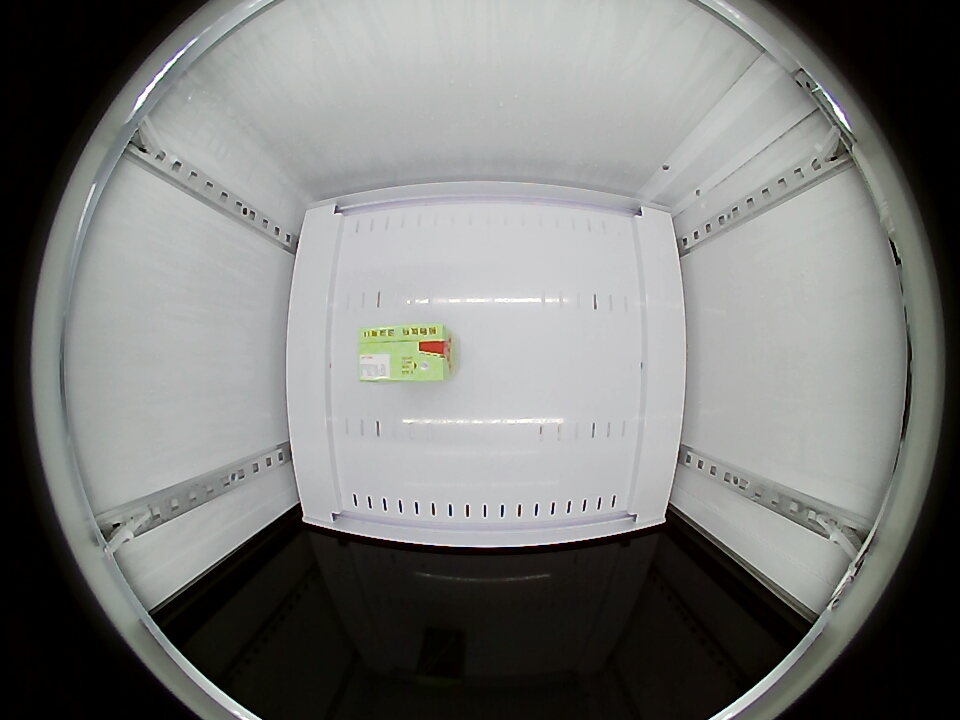wanglaoji: (358, 323, 455, 383)
